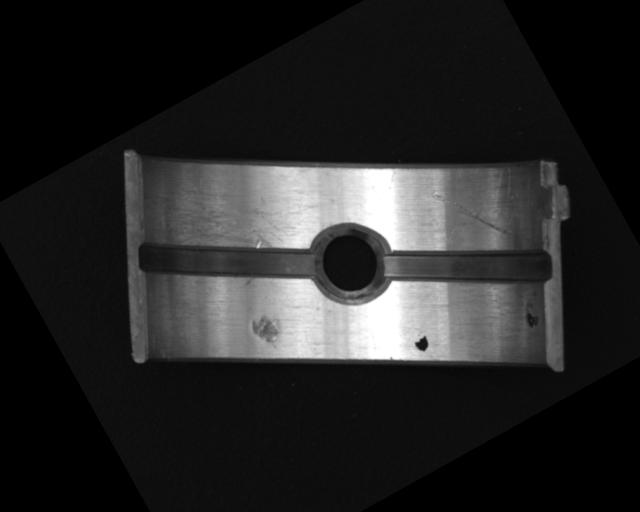blot: (520, 302, 543, 330), (410, 329, 432, 354)
bruise: (247, 310, 287, 355)
gap: (131, 176, 321, 348), (377, 186, 559, 348)
hole: (298, 210, 404, 318)
nick: (429, 167, 513, 262)
scratch: (153, 155, 302, 301)
